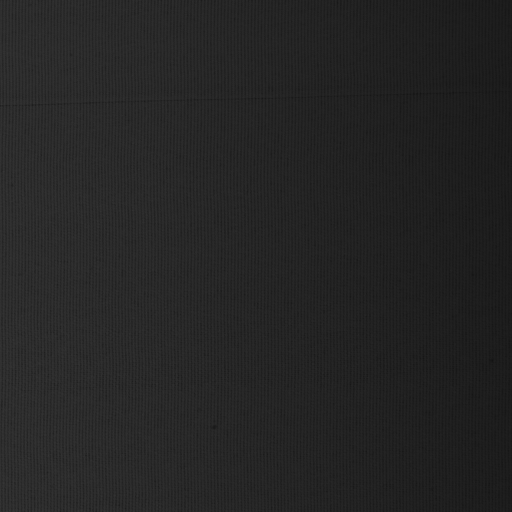defect: (1, 85, 512, 111)
